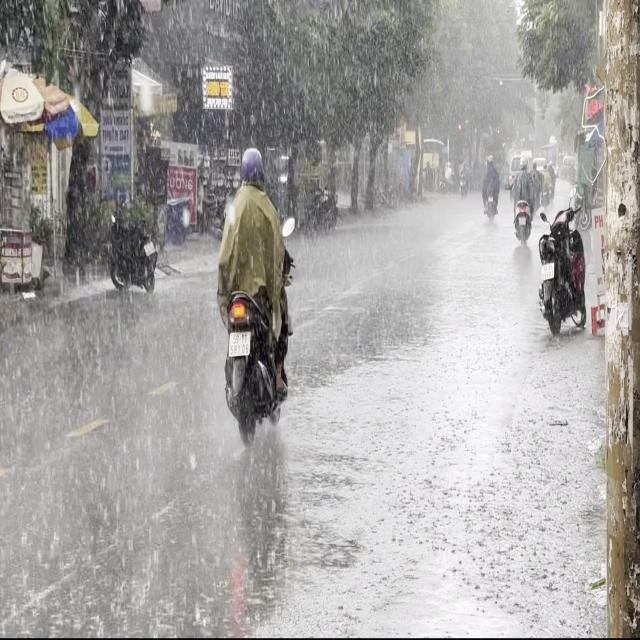helmet: (238, 145, 264, 188)
licenseplate: (213, 142, 295, 446)
nohelmet: (228, 331, 250, 356)
